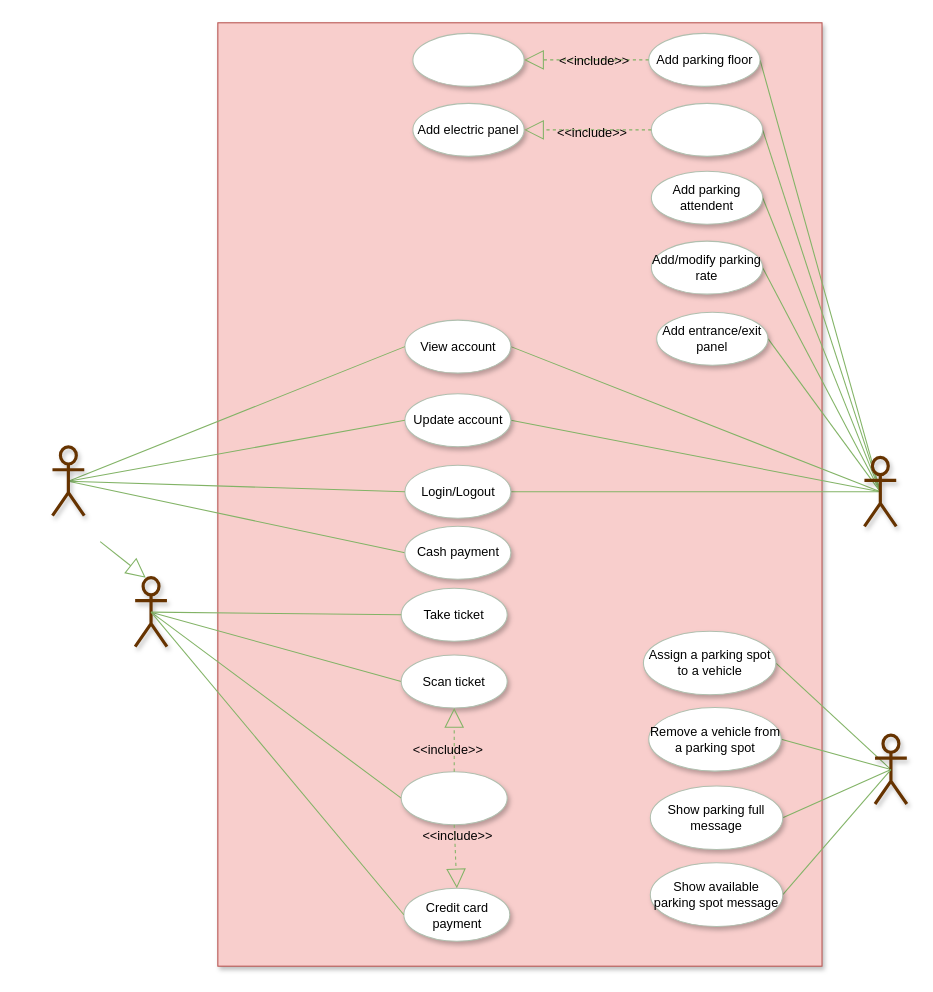
This 933x992 diagram has some shape labels left out. The shapes that lost their labels are listed below. From the top down, each one's centre as x and y in pixels, then its label:
(x=469, y=61): Add parking display board
(x=707, y=131): Add parking spot
(x=69, y=482): Parking attendant
(x=881, y=493): Admin
(x=151, y=613): Customer
(x=891, y=770): System
(x=455, y=799): Pay ticket
